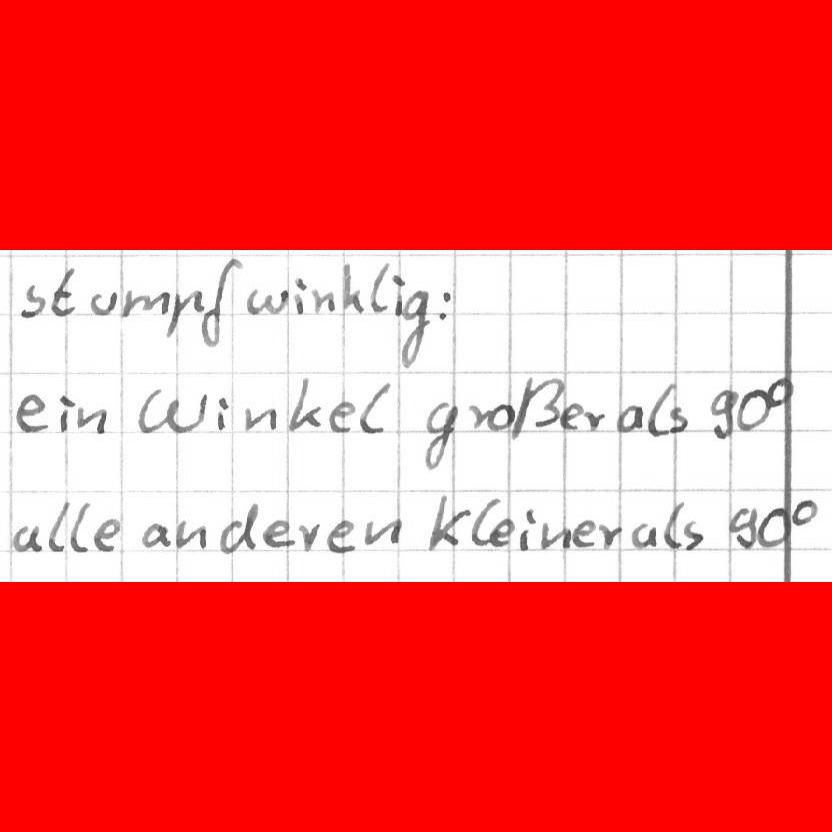Char: (199, 258, 240, 349), (136, 387, 208, 434), (735, 374, 788, 434), (511, 375, 560, 437), (397, 286, 429, 371), (421, 400, 457, 474), (423, 495, 468, 553), (218, 503, 260, 556), (288, 376, 324, 434), (357, 380, 393, 435), (123, 286, 166, 328), (166, 286, 199, 340), (467, 495, 501, 547), (14, 391, 51, 434), (49, 264, 78, 318), (340, 258, 367, 315), (758, 502, 788, 549), (729, 505, 757, 553), (69, 499, 93, 554), (246, 286, 289, 315), (648, 384, 671, 437), (47, 499, 69, 552), (18, 280, 47, 319), (710, 393, 735, 438), (325, 518, 356, 554), (364, 516, 400, 547), (369, 262, 389, 315), (174, 519, 205, 551), (243, 404, 277, 433), (329, 398, 355, 435), (262, 517, 291, 550), (94, 517, 120, 553), (76, 404, 106, 435), (12, 522, 41, 554), (539, 520, 568, 552), (791, 499, 819, 531), (616, 403, 644, 434), (662, 501, 680, 549), (295, 519, 321, 552), (571, 517, 596, 551), (88, 288, 117, 316), (140, 521, 170, 548), (56, 392, 74, 434), (490, 519, 514, 549), (560, 402, 584, 432), (519, 507, 535, 552), (632, 522, 657, 550), (309, 286, 334, 314), (668, 405, 691, 435), (435, 287, 452, 326), (682, 520, 704, 550), (391, 273, 406, 317), (488, 403, 511, 431), (214, 393, 230, 432), (598, 522, 621, 549), (466, 402, 487, 431), (583, 409, 604, 433), (294, 277, 307, 315)
